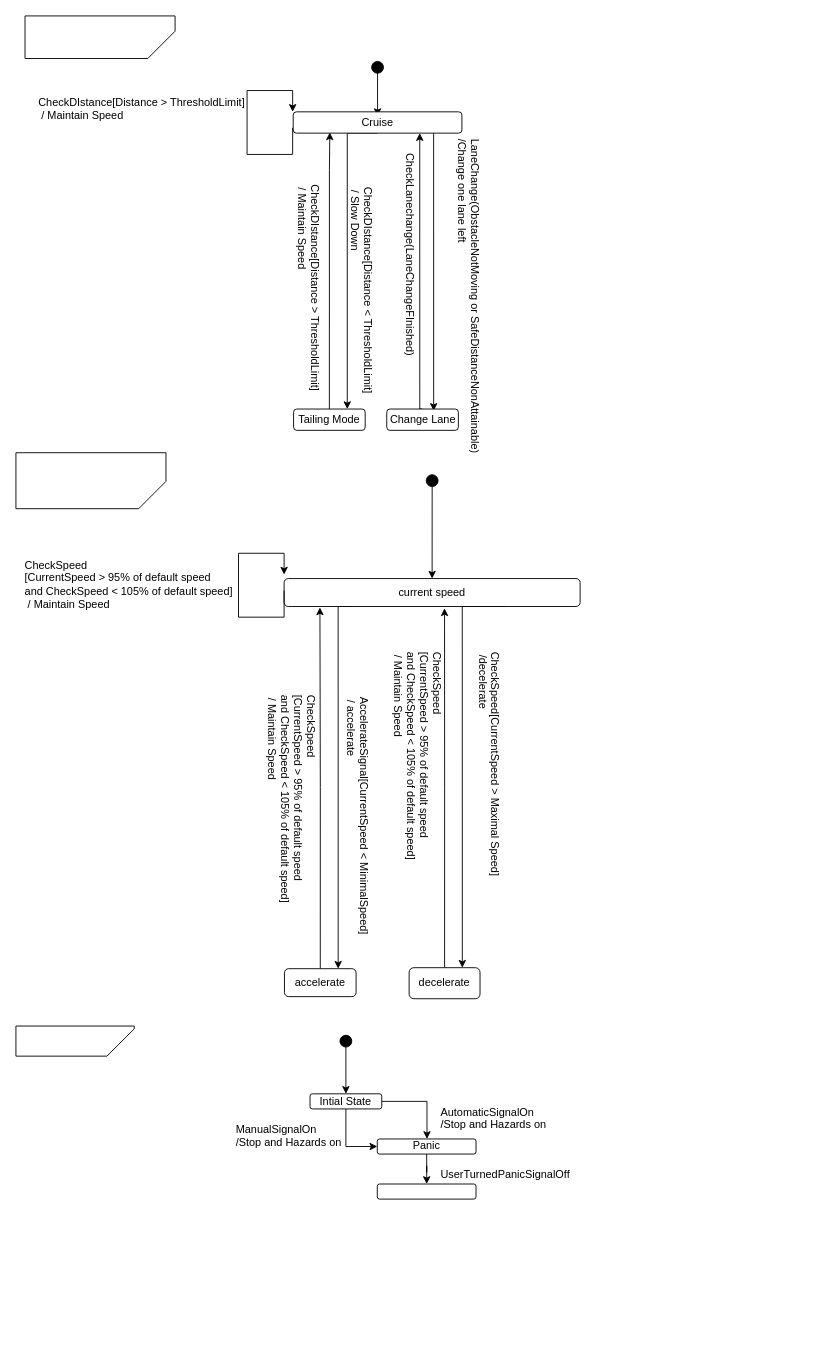
Some shapes in this 814 by 1360 pixel diagram are drawn without their labels. Here are the shapes that lost their labels. From the top down, the box of each, then its label:
(24, 15, 175, 59): Avoiding obstacles
(15, 452, 166, 509): Maintain Desired Speed
(15, 1025, 134, 1056): Panic State
(376, 1183, 476, 1199): Parked
